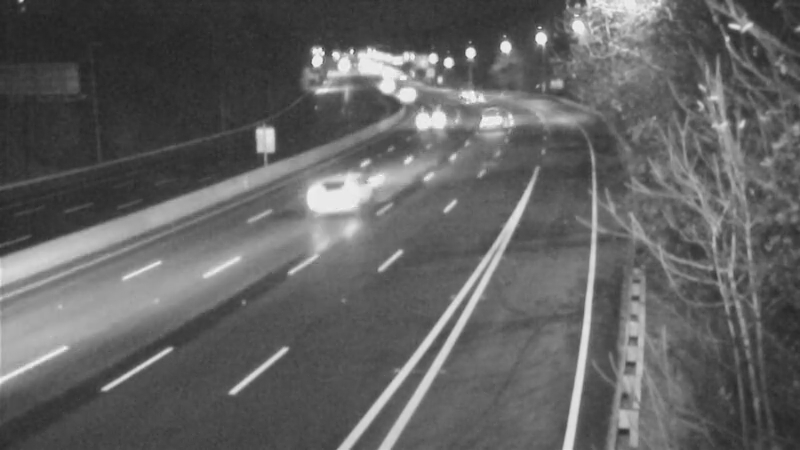vehicle: (294, 154, 374, 234), (383, 72, 433, 122), (442, 67, 492, 117), (447, 73, 497, 123), (466, 88, 516, 138), (404, 90, 454, 140)
